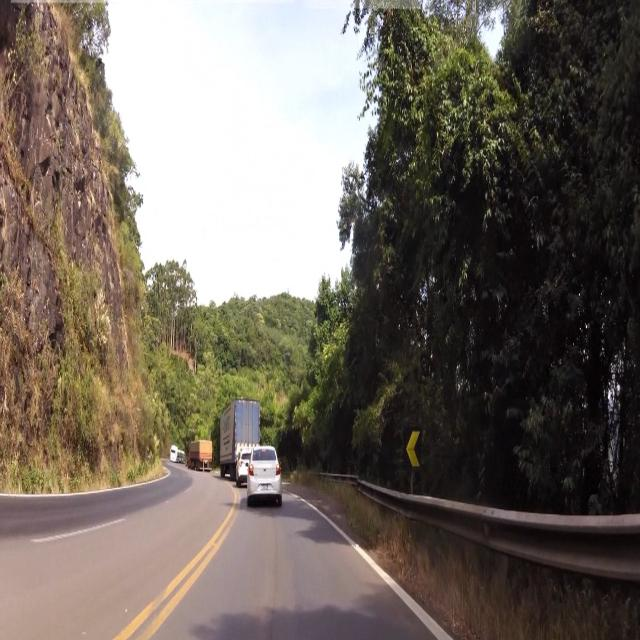Del: (403, 422, 424, 472)
